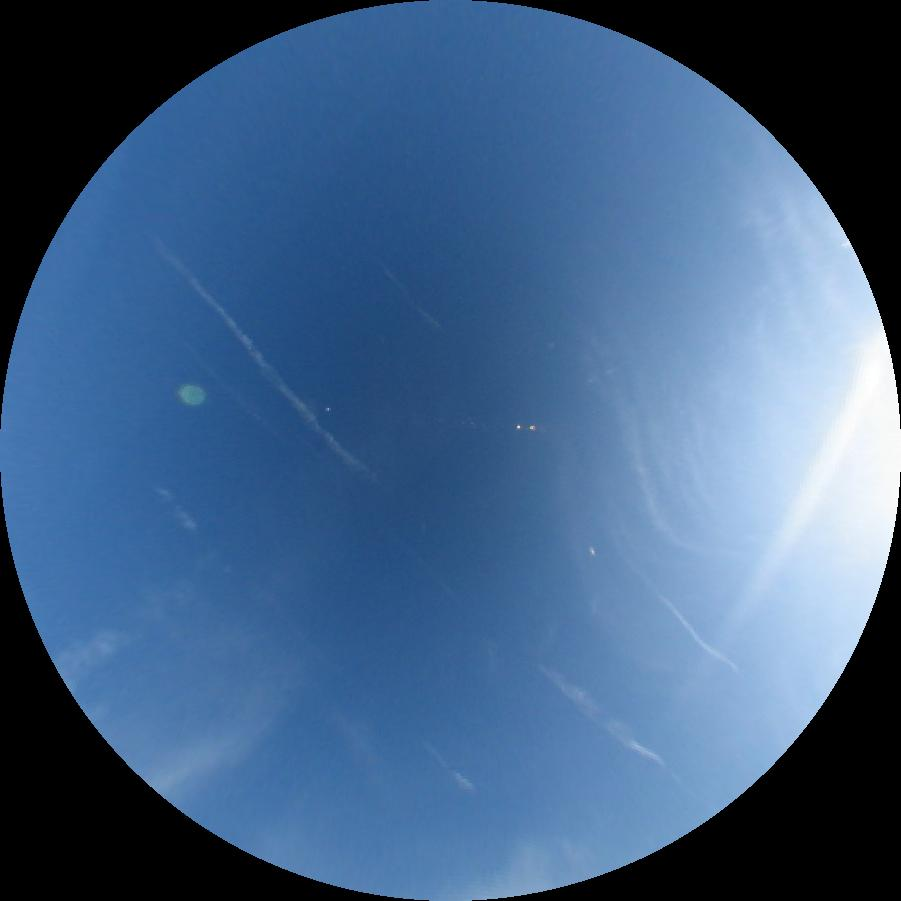contrail veryold: (153, 237, 668, 767), (384, 265, 740, 675), (157, 487, 475, 792), (173, 346, 270, 429)
